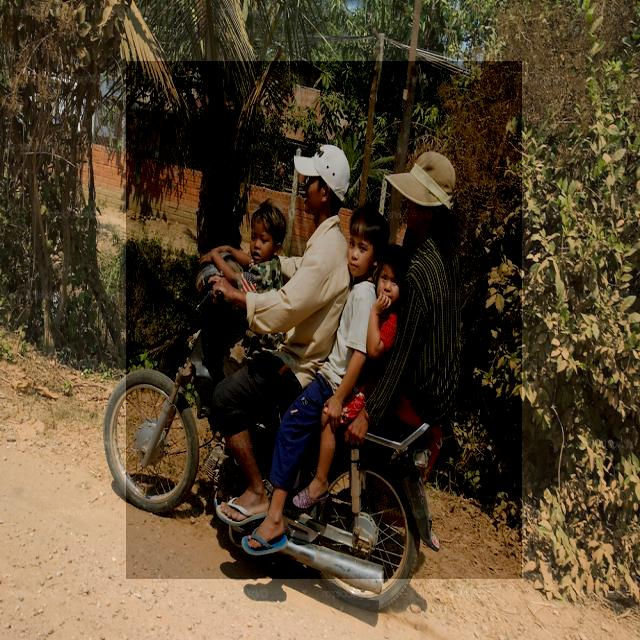Overloading: (126, 61, 522, 579)
